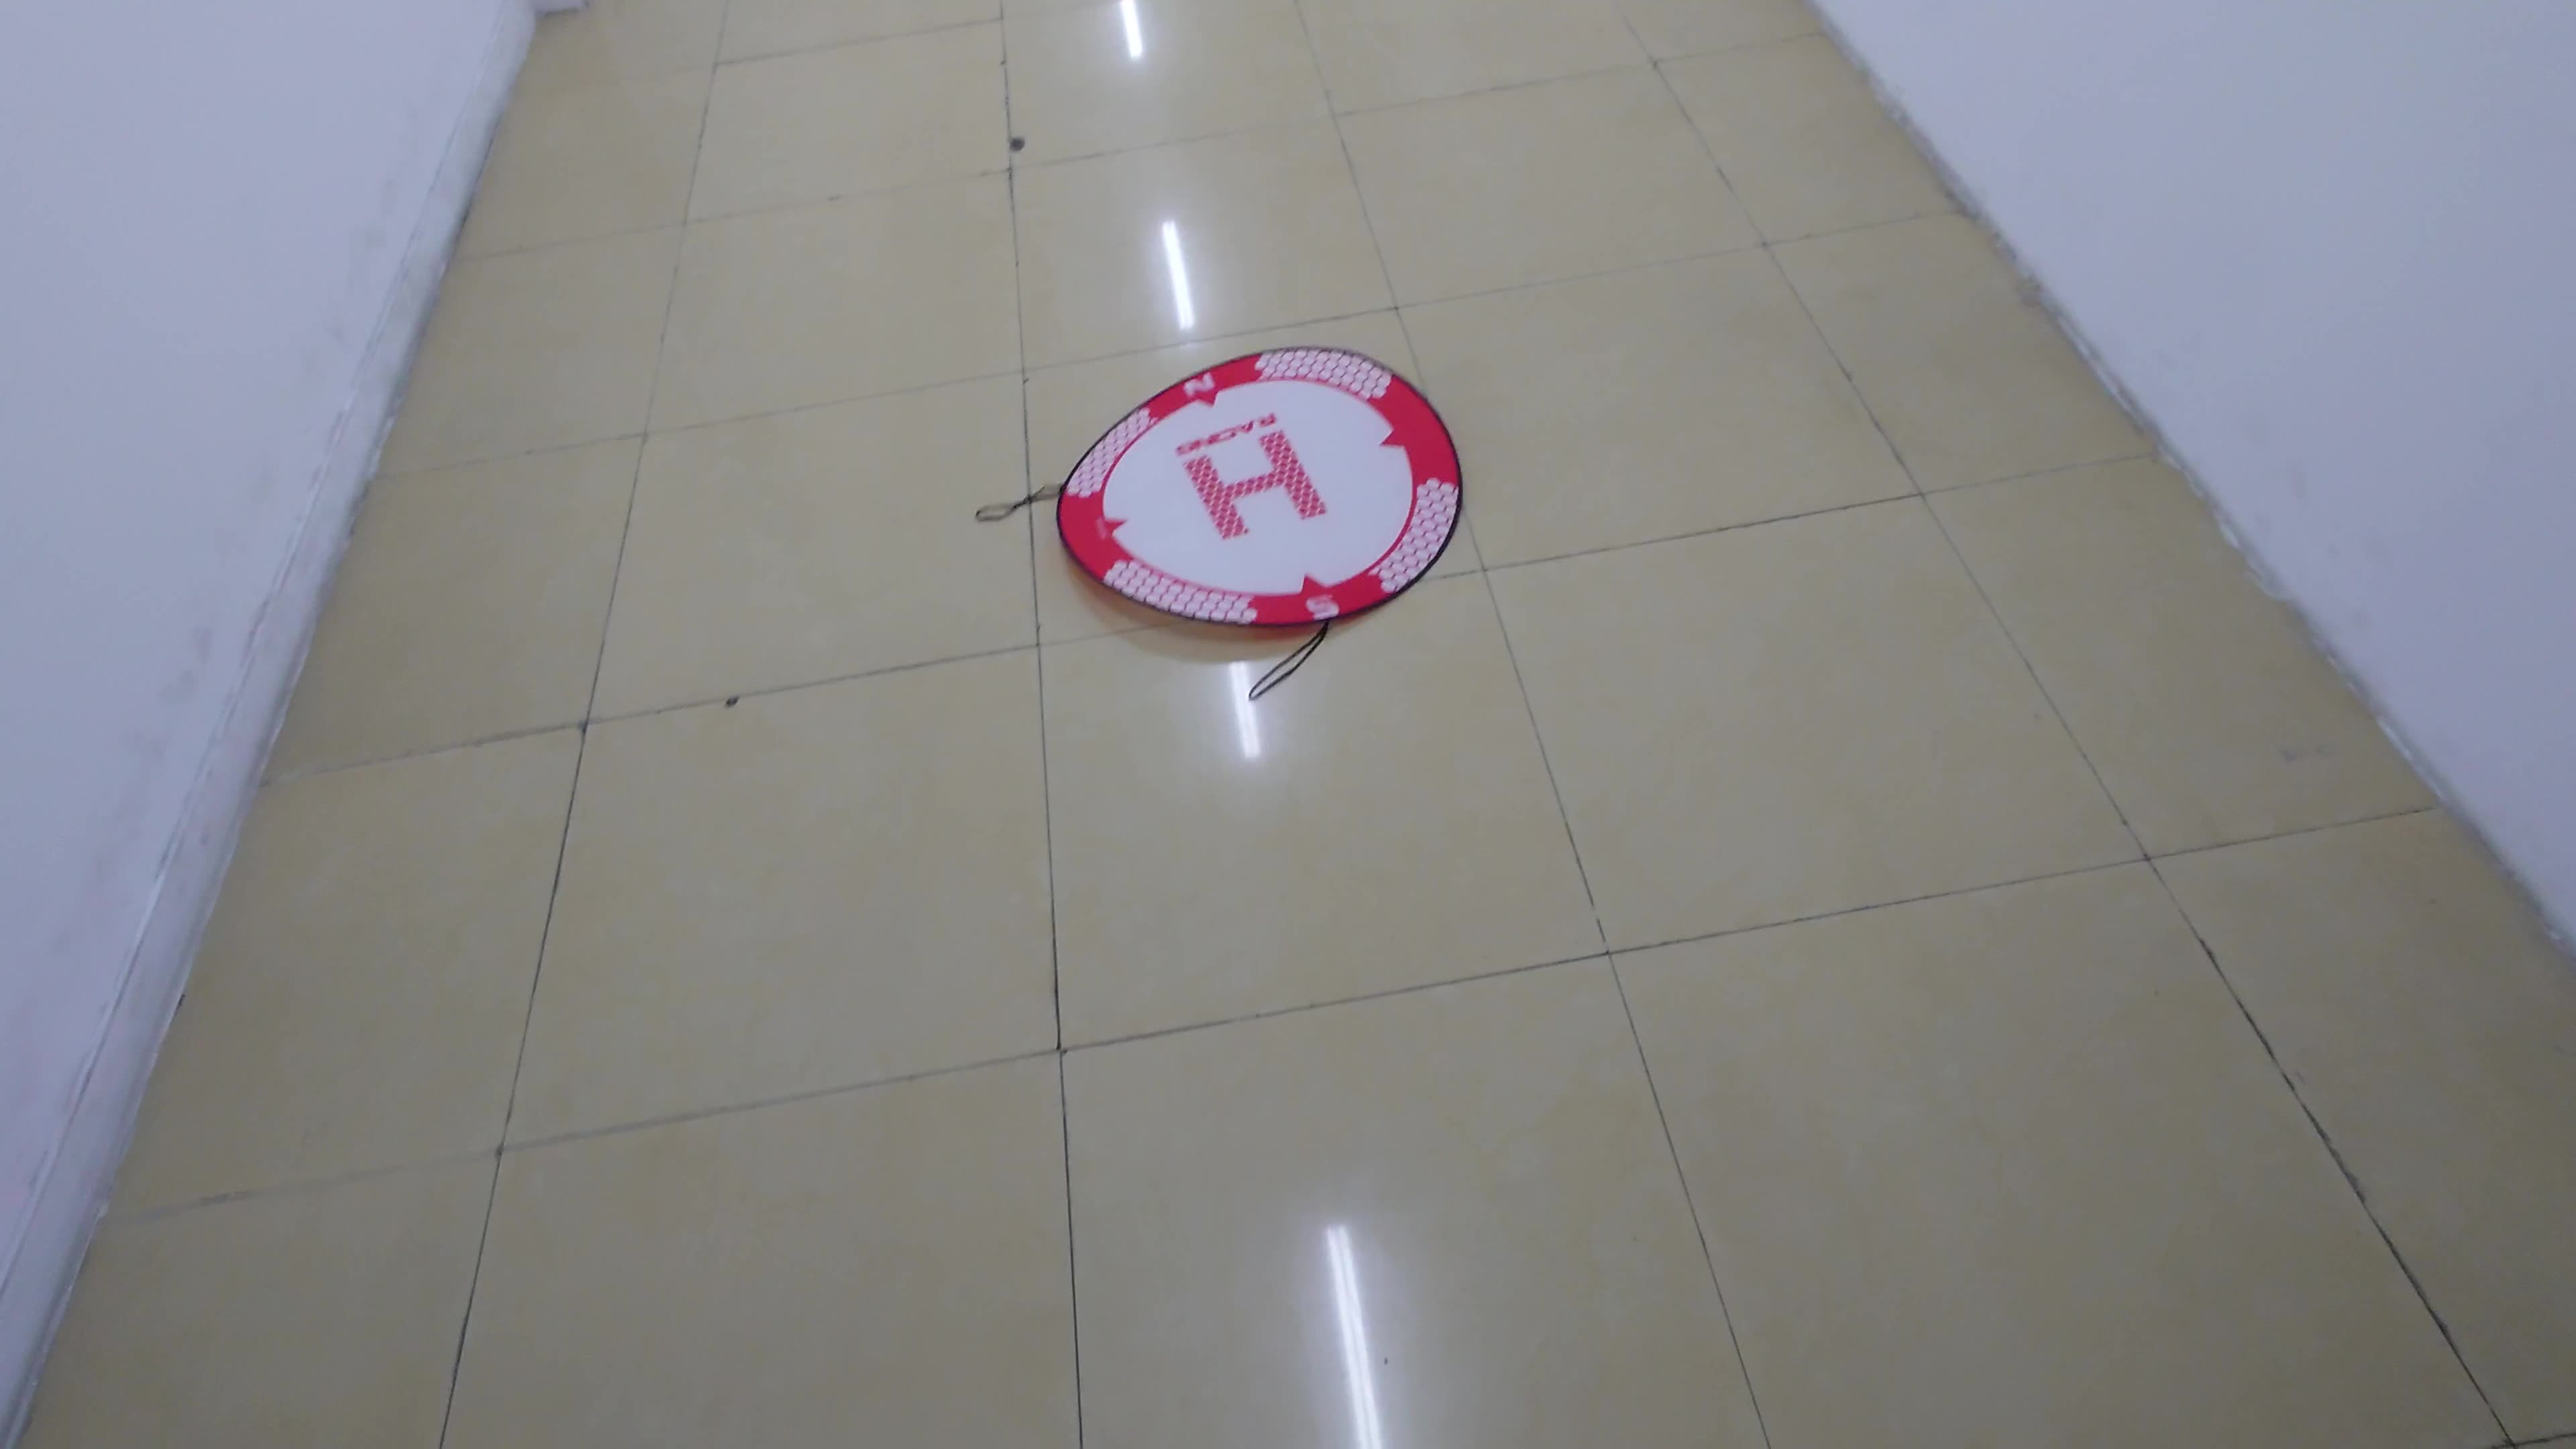H: (1184, 430, 1329, 540)
